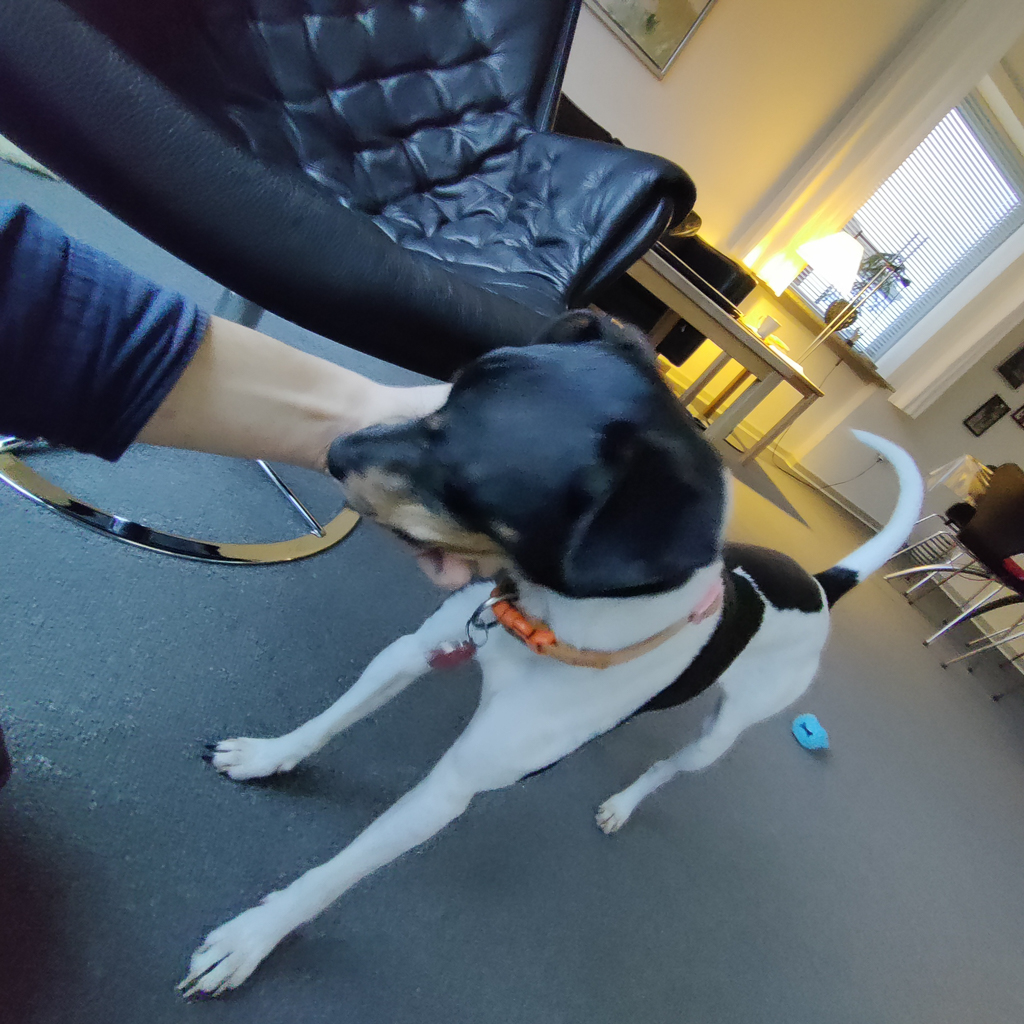Dog: (146, 275, 942, 1010)
Humanoid: (0, 172, 545, 600)
